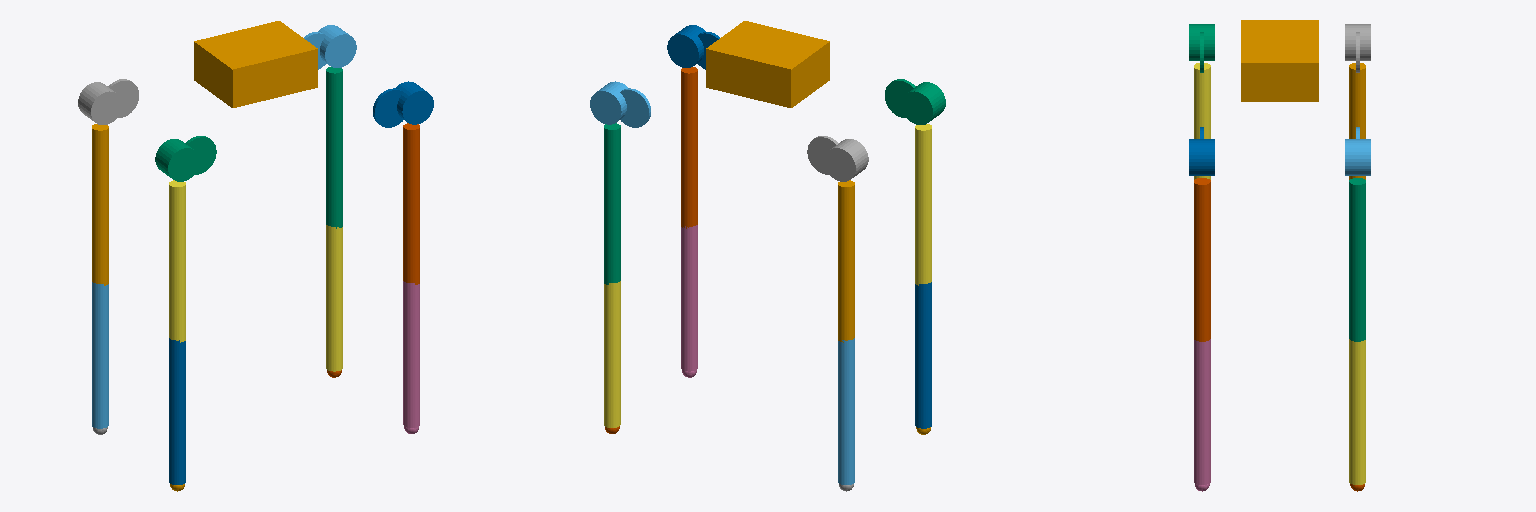
URDF robot description (ironhorse):
<?xml version="1.0" ?>
<robot name="ironhorse" xmlns:xacro="http://ros.org/wiki/xacro">



    <!--!!!!!!!!!!!!!!!!!!BODY!!!!!!!!!!!!!!!!!!!!!!!!!!!!!!!-->
    <link name="body">
        <inertial>
            <mass value="10"/>
            <origin xyz="0.0 0.0 0.0"/>
            <inertia ixx="0.011253" ixy="0" ixz="0" iyy="0.036203" iyz="0" izz="0.042673"/>
        </inertial>
        <visual>
            <geometry>
                <!--mesh filename="meshes/mini_body.obj"/!!!-->
                <box size="0.23 0.18 0.1"/>
            </geometry>
            <origin rpy="0.0 0.0 0.0" xyz="0.0 0.0 0.0"/>
        </visual>
        <collision>
            <geometry>
                <!--mesh filename="meshes/mini_body.obj"/-->
                <box size="0.23 0.18 0.1"/>
            </geometry>
            <origin rpy="0 0 0" xyz="0 0 0"/>
        </collision>
    </link>



    <!--!!!!!!!!!!!! Front Left Leg !!!!!!!!!!!!!!!!!!!!!!!!!!!!!!!!!!!!-->
    <joint name="torso_to_abduct_fl_j" type="continuous">
        <axis xyz="1 0 0"/>
        <origin rpy="0 0 0" xyz="0.315 0.18 -0.1"/>
        <parent link="body"/>
        <child link="abduct_fl"/>
        <limit effort="18" lower="-1.6" upper="1.6" velocity="40"/>
    </joint>
    <link name="abduct_fl">
        <inertial>
            <mass value="0.54"/>
            <origin xyz="0.0 0.036 0."/>
            <inertia ixx="0.000381" ixy="0.000058" ixz="0.00000045" 
                iyy="0.000560" iyz="0.00000095" izz="0.000444"/>
        </inertial>
        <visual>
            <geometry>
                <!--mesh filename="meshes/mini_abad.obj"/-->
                <cylinder length ="0.01" radius = "0.0475"/>
            </geometry>
            <origin rpy="0. 1.5708 -1.5708" xyz="-0.055 0.0 0.0"/>
        </visual>
        <visual>
            <geometry>
                <!--mesh filename="meshes/mini_abad.obj"/-->
                <cylinder length ="0.06" radius = "0.0425"/>
            </geometry>
            <!--origin rpy="3.141592 0.0 1.5708" xyz="-0.055 0.0 0.0"/-->
            <origin rpy="1.5708 0.0 0.0" xyz="0.0 0.0 0.0"/>
        </visual>
        <collision>
            <geometry>
                <!--mesh filename="meshes/mini_abad.obj"/-->
                <cylinder length ="0.01" radius = "0.0475"/>
            </geometry>
            <!--origin rpy="0 0 -1.5708" xyz="-0.055 0 0"/-->
            <origin rpy="0 1.5708 -1.5708" xyz="-0.055 0.0 0.0"/>
        </collision>
        <collision>
            <geometry>
                <!--mesh filename="meshes/mini_abad.obj"/-->
                <cylinder length ="0.06" radius = "0.0425"/>
            </geometry>
            <!--origin rpy="0 0 -1.5708" xyz="-0.055 0 0"/-->
            <origin rpy="1.5708 0.0 0.0" xyz="0.0 0.0 0.0"/>
        </collision>
    </link>

    <joint name="abduct_fl_to_thigh_fl_j" type="continuous">
        <axis xyz="0 -1 0"/>
        <origin rpy="0.0 0.0 0.0" xyz="0.0 0.00 -0.06"/>
        <parent link="abduct_fl"/>
        <child link="thigh_fl"/>
        <limit effort="18" lower="-2.6" upper="2.6" velocity="40"/>
    </joint>
    <link name="thigh_fl">
        <inertial>
            <mass value="0.634"/>
            <origin xyz="0.0 0.016 -0.02"/>
            <inertia ixx="0.001983" ixy="0.000245" ixz="0.000013" 
                iyy="0.002103" iyz="0.0000015" izz="0.000508"/>
        </inertial>
        <visual>
            <geometry>
                <!--mesh filename="meshes/mini_upper_link.obj"/-->
                <cylinder length ="0.4" radius = "0.02"/>
            </geometry>
            <origin rpy="0.0 0.0 0.0" xyz="0.0 0.0 -0.2"/>
        </visual>
        <collision>
            <geometry>
                <!--mesh filename="meshes/mini_upper_link.obj"/-->
                <cylinder length ="0.17" radius = "0.015"/>
            </geometry>
            <origin rpy="0.0 0.0 0.0" xyz="0.0 0.0 -0.105"/>
        </collision>
    </link>

    <joint name="thigh_fl_to_knee_fl_j" type="continuous">
        <axis xyz="0 -1 0"/>
        <origin rpy="0.0 0 0.0" xyz="0.0 0.0 -0.4"/>
        <parent link="thigh_fl"/>
        <child link="shank_fl"/>
        <limit effort="26" lower="-2.6" upper="2.6" velocity="26"/>
    </joint>
    <link name="shank_fl">
        <inertial>
            <mass value="0.064"/>
            <origin xyz="0.0 0.0 -0.209"/>
            <inertia ixx="0.000245" ixy="0" ixz="0.0" iyy="0.000248" iyz="0" izz="0.000006"/>
        </inertial>
        <visual>
            <geometry>
                <!--mesh filename="meshes/mini_lower_link.obj"/-->
                <cylinder length ="0.372" radius = "0.02"/>
            </geometry>
            <origin rpy="0.0 3.141592 0.0" xyz="0.0 0.0 -0.18"/>
        </visual>
        <collision>
            <geometry>
                <!--mesh filename="meshes/mini_lower_link.obj"/-->
                <cylinder length ="0.15" radius = "0.01"/>
            </geometry>
            <origin rpy="0.0 3.141592 0.0" xyz="0 0 -0.095"/>
        </collision>
    </link>




    <!--!!!!!!!!!!!! Front Right Leg !!!!!!!!!!!!!!!!!!!!!!!!!!!!!!!!!!!!-->

    <!--!!!!Joint!!!!!!!!!!!!-->
    <joint name="torso_to_abduct_fr_j" type="continuous">
        <axis xyz="1 0 0"/>
        <origin rpy="0 0 0" xyz="0.315 -0.18 -0.1"/>
        <parent link="body"/>
        <child link="abduct_fr"/>
        <limit effort="18" lower="-1.6" upper="1.6" velocity="40"/>
    </joint>
    <link name="abduct_fr">
        <inertial>
            <mass value="0.54"/>
            <origin xyz="0.0 0.036 0."/>
            <inertia ixx="0.000381" ixy="0.000058" ixz="0.00000045" 
                iyy="0.000560" iyz="0.00000095" izz="0.000444"/>
        </inertial>
        <visual>
            <geometry>
                <!--mesh filename="meshes/mini_abad.obj"/-->
                <cylinder length ="0.01" radius = "0.0475"/>
            </geometry>
            <!--origin rpy="3.141592 0.0 1.5708" xyz="-0.055 0.0 0.0"/-->
            <origin rpy="3.141592 1.5708 1.5708" xyz="-0.055 0.0 0.0"/>
        </visual>
        <visual>
            <geometry>
                <!--mesh filename="meshes/mini_abad.obj"/-->
                <cylinder length ="0.06" radius = "0.0425"/>
            </geometry>
            <!--origin rpy="3.141592 0.0 1.5708" xyz="-0.055 0.0 0.0"/-->
            <origin rpy="1.5708 0.0 0.0" xyz="0.0 0.0 0.0"/>
        </visual>
        <collision>
            <geometry>
                <!--mesh filename="meshes/mini_abad.obj"/-->
                <cylinder length ="0.01" radius = "0.0475"/>
            </geometry>
            <origin rpy="3.141592 1.5708 1.5708" xyz="-0.055 0 0"/>
        </collision>
        <collision>
            <geometry>
                <!--mesh filename="meshes/mini_abad.obj"/-->
                <cylinder length ="0.06" radius = "0.0425"/>
            </geometry>
            <origin rpy="1.5708 0.0 0.0" xyz="-0.055 0 0"/>
        </collision>
    </link>

    <joint name="abduct_fr_to_thigh_fr_j" type="continuous">
        <axis xyz="0 -1 0"/>
        <origin rpy="0.0 0.0 0.0" xyz="0.0 0.00 -0.06"/>
        <parent link="abduct_fr"/>
        <child link="thigh_fr"/>
        <limit effort="18" lower="-2.6" upper="2.6" velocity="40"/>
    </joint>
    <link name="thigh_fr">
        <inertial>
            <mass value="0.634"/>
            <origin xyz="0.0 0.016 -0.02"/>
            <inertia ixx="0.001983" ixy="0.000245" ixz="0.000013" 
                iyy="0.002103" iyz="0.0000015" izz="0.000508"/>
        </inertial>
        <visual>
            <geometry>
                <!--mesh filename="meshes/mini_upper_link.obj"/-->
                <cylinder length ="0.4" radius = "0.02"/>
            </geometry>
            <origin rpy="0.0 0.0 0.0" xyz="0.0 0.0 -0.2"/>
        </visual>
        <collision>
            <geometry>
                <!--mesh filename="meshes/mini_upper_link.obj"/-->
                <cylinder length ="0.17" radius = "0.015"/>
            </geometry>
            <origin rpy="0.0 0.0 0.0" xyz="0.0 0.0 -0.105"/>
        </collision>
    </link>

    <joint name="thigh_fr_to_knee_fr_j" type="continuous">
        <axis xyz="0 -1 0"/>
        <origin rpy="0.0 0 0.0" xyz="0.0 0.0 -0.4"/>
        <parent link="thigh_fr"/>
        <child link="shank_fr"/>
        <limit effort="26" lower="-2.6" upper="2.6" velocity="26"/>
    </joint>
    <link name="shank_fr">
        <inertial>
            <mass value="0.064"/>
            <origin xyz="0.0 0.0 -0.209"/>
            <inertia ixx="0.000245" ixy="0" ixz="0.0" iyy="0.000248" iyz="0" izz="0.000006"/>
        </inertial>
        <visual>
            <geometry>
                <!--mesh filename="meshes/mini_lower_link.obj"/-->
                <cylinder length ="0.372" radius = "0.02"/>
            </geometry>
            <origin rpy="0.0 3.141592 0.0" xyz="0.0 0.0 -0.18"/>
        </visual>
        <collision>
            <geometry>
                <!--mesh filename="meshes/mini_lower_link.obj"/-->
                <cylinder length ="0.15" radius = "0.01"/>
            </geometry>
            <origin rpy="0.0 3.141592 0.0" xyz="0.0 0.0 -0.095"/>
        </collision>
    </link>





    <!--!!!!!!!!!!!! Hind Left Leg !!!!!!!!!!!!!!!!!!!!!!!!!!!!!!!!!!!!-->
    <joint name="torso_to_abduct_hl_j" type="continuous">
        <axis xyz="1 0 0"/>
        <origin rpy="0 0 0" xyz="-0.315 0.18 -0.1"/>
        <parent link="body"/>
        <child link="abduct_hl"/>
        <limit effort="18" lower="-1.6" upper="1.6" velocity="40"/>
    </joint>
    <link name="abduct_hl">
        <inertial>
            <mass value="0.54"/>
            <origin xyz="0.0 0.036 0."/>
            <inertia ixx="0.000381" ixy="0.000058" ixz="0.00000045" 
                iyy="0.000560" iyz="0.00000095" izz="0.000444"/>
        </inertial>
        <visual>
            <geometry>
                <!--mesh filename="meshes/mini_abad.obj"/-->
                <cylinder length ="0.01" radius = "0.0475"/>
            </geometry>
            <!--origin rpy="3.141592 0.0 -1.5708" xyz="0.055 0.0 0.0"/-->
            <origin rpy="3.141592 1.5708 -1.5708" xyz="0.055 0.0 0.0"/>
        </visual>
        <visual>
            <geometry>
                <!--mesh filename="meshes/mini_abad.obj"/-->
                <cylinder length ="0.06" radius = "0.0425"/>
            </geometry>
            <!--origin rpy="3.141592 0.0 1.5708" xyz="-0.055 0.0 0.0"/-->
            <origin rpy="1.5708 0.0 0.0" xyz="0.0 0.0 0.0"/>
        </visual>
        <collision>
            <geometry>
                <!--mesh filename="meshes/mini_abad.obj"/-->
                <cylinder length ="0.01" radius = "0.0475"/>
            </geometry>
            <origin rpy="3.141592 1.5708 -1.5708" xyz="0.055 0 0"/>
        </collision>
        <collision>
            <geometry>
                <!--mesh filename="meshes/mini_abad.obj"/-->
                <cylinder length ="0.06" radius = "0.0425"/>
            </geometry>
            <origin rpy="1.5708 0.0 0.0" xyz="0.0 0.0 0.0"/>
        </collision>
    </link>

    <joint name="abduct_hl_to_thigh_hl_j" type="continuous">
        <axis xyz="0 -1 0"/>
        <origin rpy="0.0 0.0 0.0" xyz="0.0 0.00 -0.06"/>
        <parent link="abduct_hl"/>
        <child link="thigh_hl"/>
        <limit effort="18" lower="-2.6" upper="2.6" velocity="40"/>
    </joint>
    <link name="thigh_hl">
        <inertial>
            <mass value="0.634"/>
            <origin xyz="0.0 0.016 -0.02"/>
            <inertia ixx="0.001983" ixy="0.000245" ixz="0.000013" 
                iyy="0.002103" iyz="0.0000015" izz="0.000508"/>
        </inertial>
        <visual>
            <geometry>
                <!--mesh filename="meshes/mini_upper_link.obj"/-->
                <cylinder length ="0.4" radius = "0.02"/>
            </geometry>
            <origin rpy="0.0 0.0 0.0" xyz="0.0 0.0 -0.2"/>
        </visual>
        <collision>
            <geometry>
                <!--mesh filename="meshes/mini_upper_link.obj"/-->
                <cylinder length ="0.17" radius = "0.015"/>
            </geometry>
            <origin rpy="0.0 0.0 0.0" xyz="0.0 0.0 -0.105"/>
        </collision>
    </link>

    <joint name="thigh_hl_to_knee_hl_j" type="continuous">
        <axis xyz="0 -1 0"/>
        <origin rpy="0.0 0 0.0" xyz="0.0 0.0 -0.4"/>
        <parent link="thigh_hl"/>
        <child link="shank_hl"/>
        <limit effort="26" lower="-2.6" upper="2.6" velocity="26"/>
    </joint>
    <link name="shank_hl">
        <inertial>
            <mass value="0.064"/>
            <origin xyz="0.0 0.0 -0.209"/>
            <inertia ixx="0.000245" ixy="0" ixz="0.0" iyy="0.000248" iyz="0" izz="0.000006"/>
        </inertial>
        <visual>
            <geometry>
                <!--mesh filename="meshes/mini_lower_link.obj"/-->
                <cylinder length ="0.372" radius = "0.02"/>
            </geometry>
            <origin rpy="0.0 3.141592 0.0" xyz="0.0 0.0 -0.18"/>
        </visual>
        <collision>
            <geometry>
                <!--mesh filename="meshes/mini_lower_link.obj"/-->
                <cylinder length ="0.15" radius = "0.01"/>
            </geometry>
            <origin rpy="0.0 3.141592 0.0" xyz="0.0 0.0 -0.095"/>
        </collision>
    </link>



    <!--!!!!!!!!!!!! Hind Right Leg !!!!!!!!!!!!!!!!!!!!!!!!!!!!!!!!!!!!-->
    <joint name="torso_to_abduct_hr_j" type="continuous">
        <axis xyz="1 0 0"/>
        <origin rpy="0 0 0" xyz="-0.315 -0.18 -0.1"/>
        <parent link="body"/>
        <child link="abduct_hr"/>
        <limit effort="18" lower="-1.6" upper="1.6" velocity="40"/>
    </joint>
    <link name="abduct_hr">
        <inertial>
            <mass value="0.54"/>
            <origin xyz="0.0 0.036 0."/>
            <inertia ixx="0.000381" ixy="0.000058" ixz="0.00000045" 
                iyy="0.000560" iyz="0.00000095" izz="0.000444"/>
        </inertial>
        <visual>
            <geometry>
                <!--mesh filename="meshes/mini_abad.obj"/-->
                <cylinder length ="0.01" radius = "0.0475"/>
            </geometry>
            <!--origin rpy="0.0 0.0 1.5708" xyz="0.055 0.0 0.0"/-->
            <origin rpy="0.0 1.5708 1.5708" xyz="0.055 0.0 0.0"/>
        </visual>
        <visual>
            <geometry>
                <!--mesh filename="meshes/mini_abad.obj"/-->
                <cylinder length ="0.06" radius = "0.0425"/>
            </geometry>
            <!--origin rpy="3.141592 0.0 1.5708" xyz="-0.055 0.0 0.0"/-->
            <origin rpy="1.5708 0.0 0.0" xyz="0.0 0.0 0.0"/>
        </visual>
        <collision>
            <geometry>
                <!--mesh filename="meshes/mini_abad.obj"/-->
                <cylinder length ="0.01" radius = "0.0475"/>
            </geometry>
            <origin rpy="0.0 1.5708 1.5708" xyz="0.055 0.0 0.0"/>
        </collision>
        <collision>
            <geometry>
                <!--mesh filename="meshes/mini_abad.obj"/-->
                <cylinder length ="0.06" radius = "0.0425"/>
            </geometry>
            <origin rpy="1.5708 0.0 0.0" xyz="0.0 0.0 0.0"/>
        </collision>
    </link>

    <joint name="abduct_hr_to_thigh_hr_j" type="continuous">
        <axis xyz="0 -1 0"/>
        <origin rpy="0.0 0.0 0.0" xyz="0.0 0.00 -0.06"/>
        <parent link="abduct_hr"/>
        <child link="thigh_hr"/>
        <limit effort="18" lower="-2.6" upper="2.6" velocity="40"/>
    </joint>
    <link name="thigh_hr">
        <inertial>
            <mass value="0.634"/>
            <origin xyz="0.0 0.016 -0.02"/>
            <inertia ixx="0.001983" ixy="0.000245" ixz="0.000013" 
                iyy="0.002103" iyz="0.0000015" izz="0.000508"/>
        </inertial>
        <visual>
            <geometry>
                <!--mesh filename="meshes/mini_upper_link.obj"/-->
                <cylinder length ="0.4" radius = "0.02"/>
            </geometry>
            <origin rpy="0.0 0.0 0.0" xyz="0.0 0.0 -0.2"/>
        </visual>
        <collision>
            <geometry>
                <!--mesh filename="meshes/mini_upper_link.obj"/-->
                <cylinder length ="0.17" radius = "0.015"/>
            </geometry>
            <origin rpy="0.0 0.0 0.0" xyz="0.0 0.0 -0.105"/>
        </collision>
    </link>

    <joint name="thigh_hr_to_knee_hr_j" type="continuous">
        <axis xyz="0 -1 0"/>
        <origin rpy="0.0 0 0.0" xyz="0.0 0.0 -0.4"/>
        <parent link="thigh_hr"/>
        <child link="shank_hr"/>
        <limit effort="26" lower="-2.6" upper="2.6" velocity="26"/>
    </joint>
    <link name="shank_hr">
        <inertial>
            <mass value="0.064"/>
            <origin xyz="0.0 0.0 -0.209"/>
            <inertia ixx="0.000245" ixy="0" ixz="0.0" iyy="0.000248" iyz="0" izz="0.000006"/>
        </inertial>
        <visual>
            <geometry>
                <!--mesh filename="meshes/mini_lower_link.obj"/-->
                <cylinder length ="0.372" radius = "0.02"/>
            </geometry>
            <origin rpy="0.0 3.141592 0.0" xyz="0.0 0.0 -0.18"/>
        </visual>
        <collision>
            <geometry>
                <!--mesh filename="meshes/mini_lower_link.obj"/-->
                <cylinder length ="0.15" radius = "0.01"/>
            </geometry>
            <origin rpy="0.0 3.141592 0.0" xyz="0 0 -0.095"/>
        </collision>

    </link>

    <!-- Add foot links to enable relevent computations, including better collision detection -->
    <joint name="shank_fl_to_foot_fl" type="fixed">
        <parent link="shank_fl"/>
        <child link="LF_FOOT"/>
        <origin rpy="0.0 0.0 0.0" xyz="0.0 0.0 -0.372"/>
    </joint>
    <link name="LF_FOOT">
        <collision>
            <geometry>
                <sphere radius = "0.0175"/>
            </geometry>
            <origin rpy="0.0 0.0 0.0" xyz="0.0 0.0 0.0"/>
        </collision>
        <visual>
            <geometry>
                <sphere radius = "0.0175"/>
            </geometry>
            <origin rpy="0.0 0.0 0.0" xyz="0.0 0.0 0.0"/>
        </visual>
    </link>

    <joint name="shank_fr_to_foot_fr" type="fixed">
        <parent link="shank_fr"/>
        <child link="RF_FOOT"/>
        <origin rpy="0.0 0.0 0.0" xyz="0.0 0.0 -0.372"/>
    </joint>
    <link name="RF_FOOT">
        <collision>
            <geometry>
                <sphere radius = "0.0175"/>
            </geometry>
            <origin rpy="0.0 0.0 0.0" xyz="0.0 0.0 0.0"/>
        </collision>
        <visual>
            <geometry>
                <sphere radius = "0.0175"/>
            </geometry>
            <origin rpy="0.0 0.0 0.0" xyz="0.0 0.0 0.0"/>
        </visual>
    </link>

    <joint name="shank_hl_to_foot_hl" type="fixed">
        <parent link="shank_hl"/>
        <child link="LH_FOOT"/>
        <origin rpy="0.0 0.0 0.0" xyz="0.0 0.0 -0.372"/>
    </joint>
    <link name="LH_FOOT">
        <collision>
            <geometry>
                <sphere radius = "0.0175"/>
            </geometry>
            <origin rpy="0.0 0.0 0.0" xyz="0.0 0.0 0.0"/>
        </collision>
        <visual>
            <geometry>
                <sphere radius = "0.0175"/>
            </geometry>
            <origin rpy="0.0 0.0 0.0" xyz="0.0 0.0 0.0"/>
        </visual>
    </link>

    <joint name="shank_hr_to_foot_hr" type="fixed">
        <parent link="shank_hr"/>
        <child link="RH_FOOT"/>
        <origin rpy="0.0 0.0 0.0" xyz="0.0 0.0 -0.372"/>
    </joint>
    <link name="RH_FOOT">
        <collision>
            <geometry>
                <sphere radius = "0.0175"/>
            </geometry>
            <origin rpy="0.0 0.0 0.0" xyz="0.0 0.0 0.0"/>
        </collision>
        <visual>
            <geometry>
                <sphere radius = "0.0175"/>
            </geometry>
            <origin rpy="0.0 0.0 0.0" xyz="0.0 0.0 0.0"/>
        </visual>
    </link>

    <!-- Joint Transmissions: Tells Drake that these are actuated -->
    <transmission name="torso_to_abduct_fl_j_transmission">
        <type>transmission_interface/SimpleTransmission</type>
        <joint name="torso_to_abduct_fl_j"/>
        <actuator name="torso_to_abduct_fl_j_actuator"/>
    </transmission>
    <transmission name="abduct_fl_to_thigh_fl_j_transmission">
        <type>transmission_interface/SimpleTransmission</type>
        <joint name="abduct_fl_to_thigh_fl_j"/>
        <actuator name="abduct_fl_to_thigh_fl_j_actuator"/>
    </transmission>
    <transmission name="thigh_fl_to_knee_fl_j_transmission">
        <type>transmission_interface/SimpleTransmission</type>
        <joint name="thigh_fl_to_knee_fl_j"/>
        <actuator name="thigh_fl_to_knee_fl_j_actuator"/>
    </transmission>

    <transmission name="torso_to_abduct_fr_j_transmission">
        <type>transmission_interface/SimpleTransmission</type>
        <joint name="torso_to_abduct_fr_j"/>
        <actuator name="torso_to_abduct_fr_j_actuator"/>
    </transmission>
    <transmission name="abduct_fr_to_thigh_fr_j_transmission">
        <type>transmission_interface/SimpleTransmission</type>
        <joint name="abduct_fr_to_thigh_fr_j"/>
        <actuator name="abduct_fr_to_thigh_fr_j_actuator"/>
    </transmission>
    <transmission name="thigh_fr_to_knee_fr_j_transmission">
        <type>transmission_interface/SimpleTransmission</type>
        <joint name="thigh_fr_to_knee_fr_j"/>
        <actuator name="thigh_fr_to_knee_fr_j_actuator"/>
    </transmission>

    <transmission name="torso_to_abduct_hl_j_transmission">
        <type>transmission_interface/SimpleTransmission</type>
        <joint name="torso_to_abduct_hl_j"/>
        <actuator name="torso_to_abduct_hl_j_actuator"/>
    </transmission>
    <transmission name="abduct_hl_to_thigh_hl_j_transmission">
        <type>transmission_interface/SimpleTransmission</type>
        <joint name="abduct_hl_to_thigh_hl_j"/>
        <actuator name="abduct_hl_to_thigh_hl_j_actuator"/>
    </transmission>
    <transmission name="thigh_hl_to_knee_hl_j_transmission">
        <type>transmission_interface/SimpleTransmission</type>
        <joint name="thigh_hl_to_knee_hl_j"/>
        <actuator name="thigh_hl_to_knee_hl_j_actuator"/>
    </transmission>

    <transmission name="torso_to_abduct_hr_j_transmission">
        <type>transmission_interface/SimpleTransmission</type>
        <joint name="torso_to_abduct_hr_j"/>
        <actuator name="torso_to_abduct_hr_j_actuator"/>
    </transmission>
    <transmission name="abduct_hr_to_thigh_hr_j_transmission">
        <type>transmission_interface/SimpleTransmission</type>
        <joint name="abduct_hr_to_thigh_hr_j"/>
        <actuator name="abduct_hr_to_thigh_hr_j_actuator"/>
    </transmission>
    <transmission name="thigh_hr_to_knee_hr_j_transmission">
        <type>transmission_interface/SimpleTransmission</type>
        <joint name="thigh_hr_to_knee_hr_j"/>
        <actuator name="thigh_hr_to_knee_hr_j_actuator"/>
    </transmission>


</robot>

--- Facts derived from the render (not from the file) ---
Views: 3 orthographic renders of the robot side by side, from view 1: azimuth 30°, elevation 25°; view 2: azimuth 150°, elevation 25°; view 3: azimuth 270°, elevation 25°.
Model ironhorse with 17 links and 16 joints (12 continuous, 4 fixed), rooted at body, posed all joints at 0.
Visible links, largest first — view 1: body, thigh_hl, thigh_hr, thigh_fl, thigh_fr, shank_fr, shank_hl, shank_fl, shank_hr, abduct_fr, abduct_hl, abduct_hr (+1 smaller); view 2: body, thigh_hr, thigh_fr, thigh_hl, thigh_fl, shank_fl, shank_hr, shank_hl, shank_fr, abduct_fl, abduct_hl, abduct_hr (+1 smaller); view 3: body, thigh_fl, thigh_fr, shank_fl, shank_fr, thigh_hl, thigh_hr, abduct_fl, abduct_fr, abduct_hl, abduct_hr.
Boxes of the visible links, x1,y1,x2,y2 form: body: (194, 21, 317, 107); thigh_hl: (92, 124, 108, 285); thigh_hr: (169, 180, 185, 342); thigh_fl: (326, 67, 342, 228); thigh_fr: (403, 123, 419, 284); shank_fr: (403, 281, 419, 427); shank_hl: (92, 282, 108, 428); shank_fl: (326, 225, 342, 371); shank_hr: (169, 338, 185, 484); abduct_fr: (373, 81, 433, 127); abduct_hl: (78, 79, 138, 124); abduct_hr: (155, 136, 216, 181); body: (706, 21, 829, 107); thigh_hr: (915, 124, 931, 285); thigh_fr: (681, 67, 697, 228); thigh_hl: (838, 180, 854, 342); thigh_fl: (604, 123, 620, 284); shank_fl: (604, 281, 620, 427); shank_hr: (915, 282, 931, 428); shank_hl: (838, 338, 854, 484); shank_fr: (681, 225, 697, 371); abduct_fl: (590, 81, 650, 127); abduct_hl: (807, 136, 868, 181); abduct_hr: (885, 79, 945, 124); body: (1241, 20, 1318, 101); thigh_fl: (1349, 178, 1365, 341); thigh_fr: (1194, 178, 1210, 341); shank_fl: (1349, 339, 1365, 484); shank_fr: (1194, 339, 1210, 484); thigh_hl: (1349, 63, 1365, 179); thigh_hr: (1194, 63, 1210, 179); abduct_fl: (1345, 127, 1370, 175); abduct_fr: (1189, 127, 1214, 175); abduct_hl: (1345, 24, 1370, 72); abduct_hr: (1189, 24, 1214, 72).
Size in the robot's own frame: 0.715 by 0.42 by 0.9995 metres.
Geometry: primitives only (box / cylinder / sphere), no mesh files.
